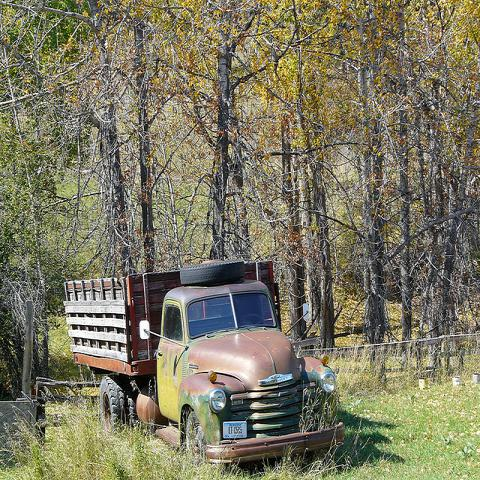truck: (58, 259, 352, 475)
